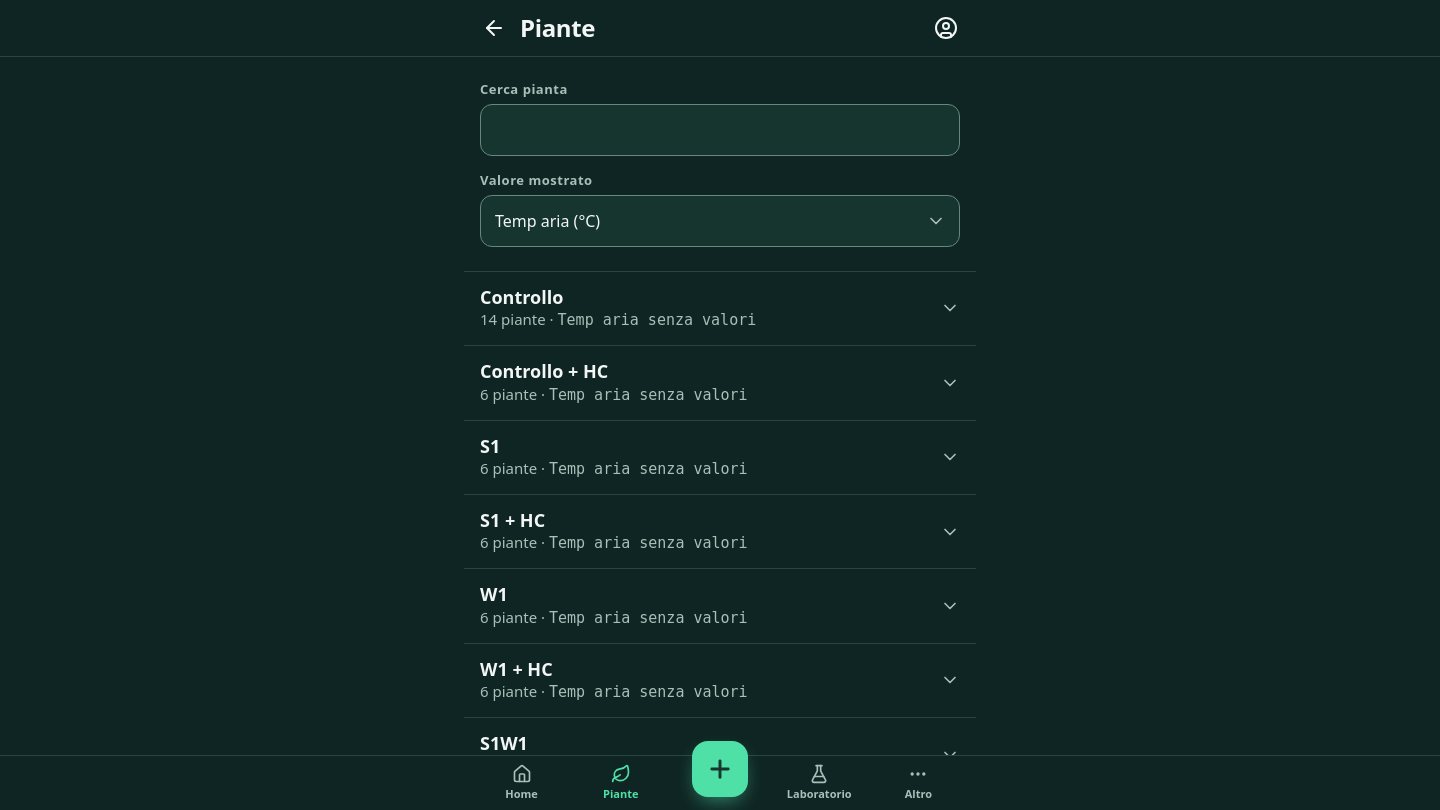
Test: ElencoPiante: i trattamenti › il blocco si chiude toccandolo ancora
Click the button "Controllo 14 piante · Temp aria senza valori" at coordinates (720, 308), box [464, 272, 976, 345]
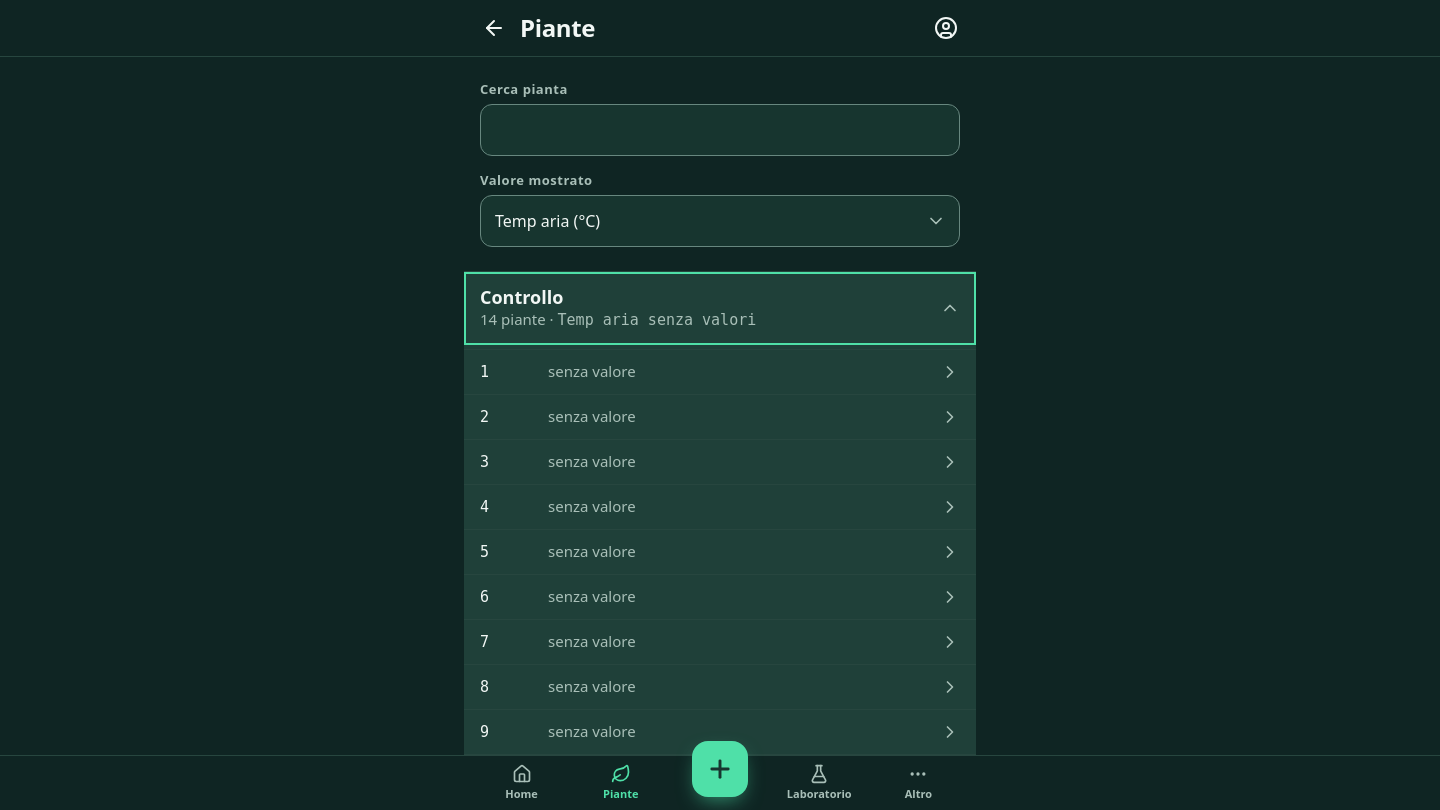
Click the button "Controllo 14 piante · Temp aria senza valori" at coordinates (720, 308), box [464, 272, 976, 345]
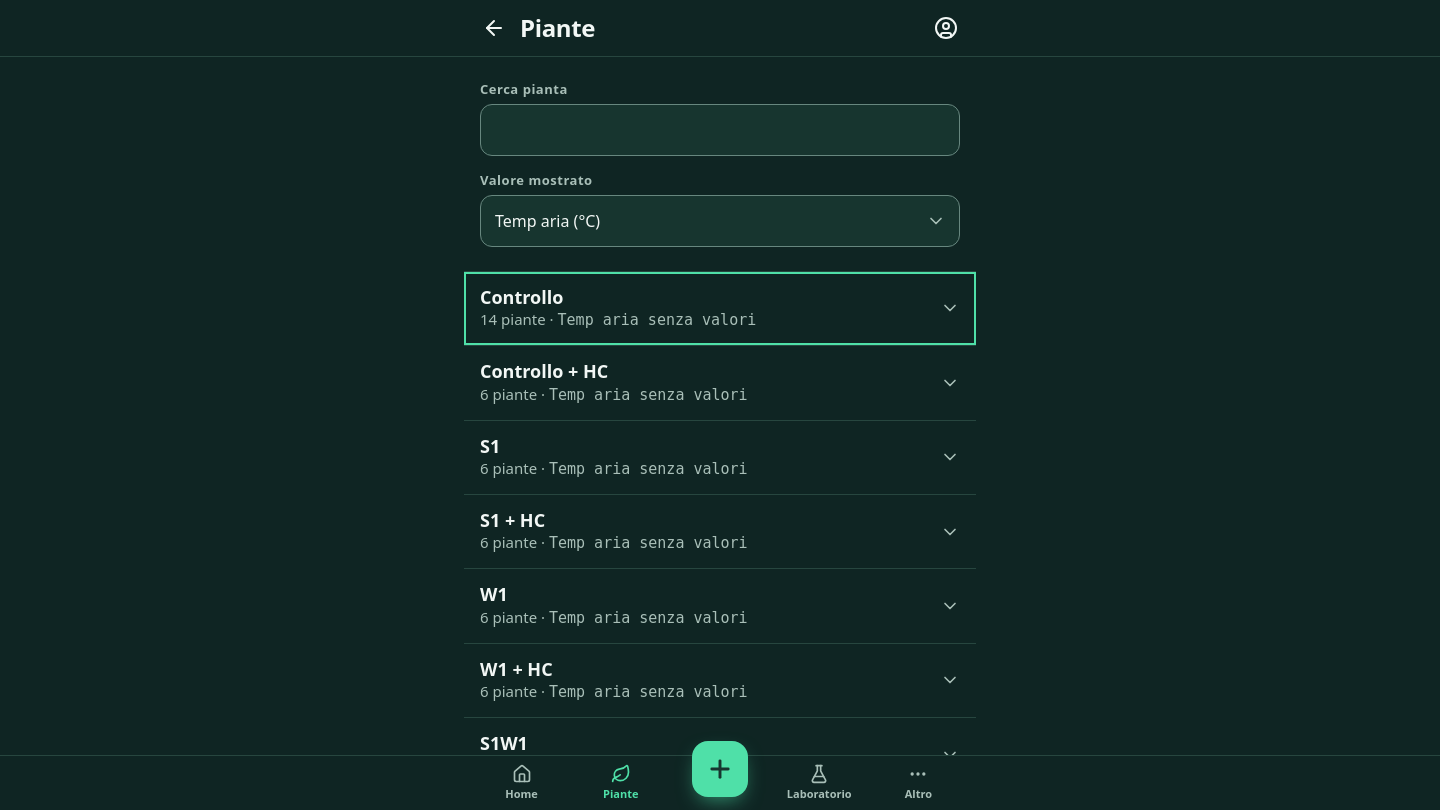
Expected: the button "Controllo 14 piante · Temp aria senza valori" is collapsed, [464, 272, 976, 345]
